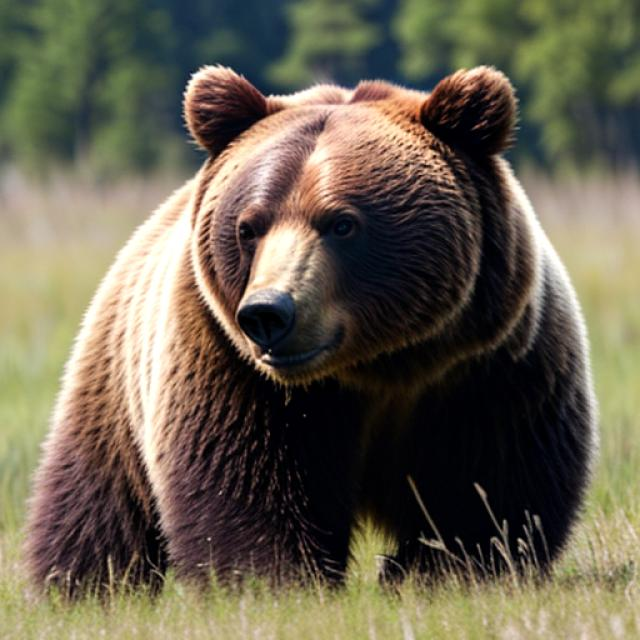bear: (146, 67, 575, 435)
